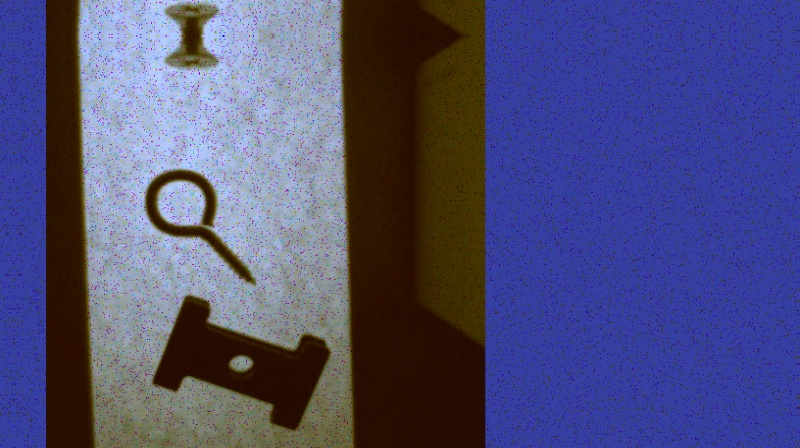O001: (140, 168, 262, 286)
O002: (150, 293, 327, 431)
S001: (161, 0, 218, 77)
